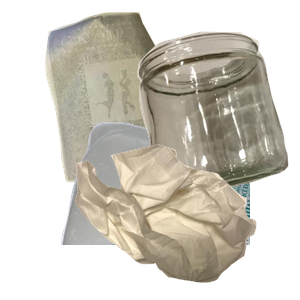glass: (135, 29, 300, 209)
paper: (43, 10, 221, 185)
plastic: (58, 120, 298, 300)
trash: (73, 142, 300, 300)
